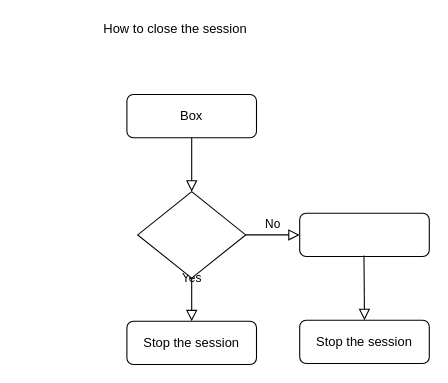
Some shapes in this 448 by 383 pixel diagram are drawn without their labels. Each missing label, with the centre of its shape:
"(Reload) Activate the pack from Inventory" belongs at (x=364, y=234).
"Is pack available?" belongs at (x=191, y=234).
